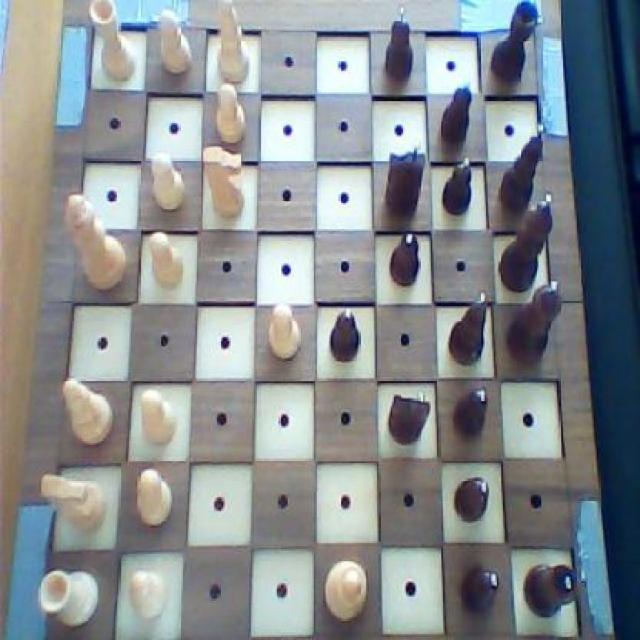bishop: (494, 120, 548, 215), (448, 288, 489, 368)
black-bishop: (495, 189, 558, 291)
black-king: (383, 138, 427, 220), (386, 389, 432, 446), (385, 388, 432, 443)
black-knight: (446, 383, 491, 445), (454, 558, 501, 616), (381, 5, 417, 80), (438, 75, 474, 147), (324, 304, 364, 364), (441, 155, 477, 220), (449, 474, 490, 523), (388, 228, 422, 287)
black-pawn: (502, 275, 566, 363)
black-queen: (489, 0, 542, 85), (523, 557, 582, 621)
black-rook: (60, 375, 117, 451), (212, 0, 252, 85)
white-bishop: (64, 192, 128, 294)
white-king: (38, 468, 112, 535), (200, 144, 251, 224)
white-knight: (146, 228, 187, 292), (134, 468, 177, 529), (138, 388, 180, 449), (149, 149, 189, 213), (156, 5, 192, 76), (210, 81, 248, 147), (264, 298, 300, 362), (126, 568, 168, 620)
white-pawn: (322, 554, 372, 621)
white-queen: (86, 0, 139, 86), (34, 563, 100, 631)
